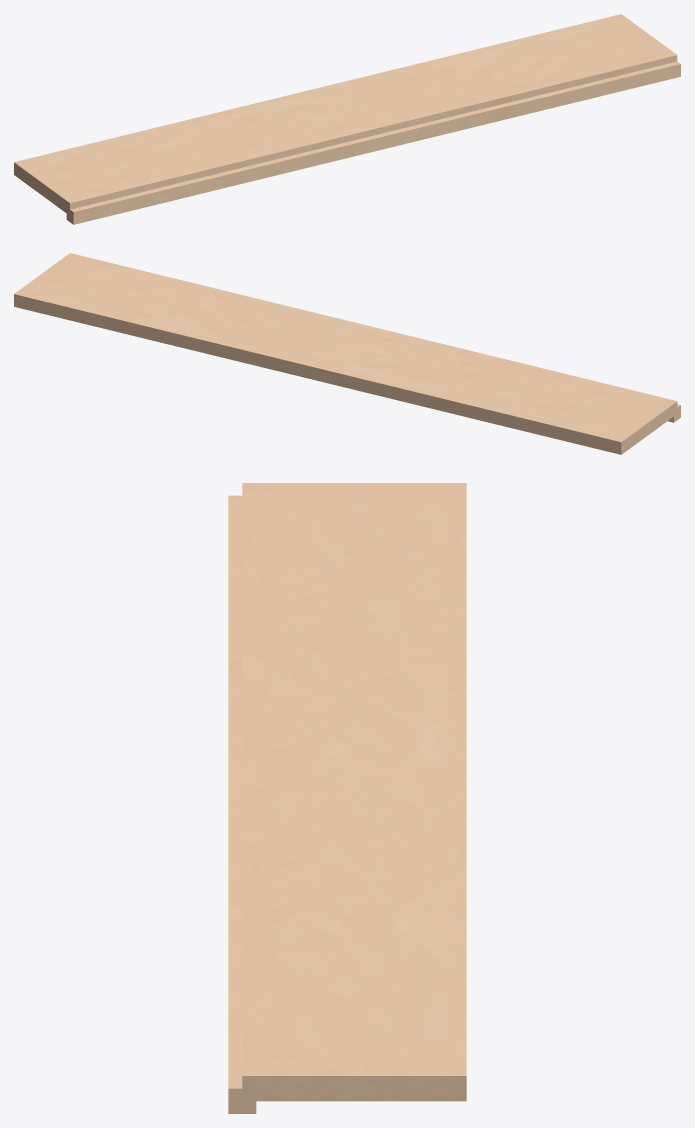
The model's file is Door_Threshold.fbx.
3 views of the same model, one above another, from view 1: azimuth 30°, elevation 25°; view 2: azimuth 150°, elevation 25°; view 3: azimuth 270°, elevation 25° (orthographic). The views are drawn at different scales.
Parts seen in each view (by area): view 1: Door_Threshold; view 2: Door_Threshold; view 3: Door_Threshold.
Part boxes in pixels (x1=…): Door_Threshold: x1=14, y1=14, x2=680, y2=224; Door_Threshold: x1=14, y1=253, x2=680, y2=454; Door_Threshold: x1=228, y1=483, x2=466, y2=1113.
Bounding box in the file's own units: 1 × 0.03 × 0.17.
Materials: 1 (1 with a texture image).
